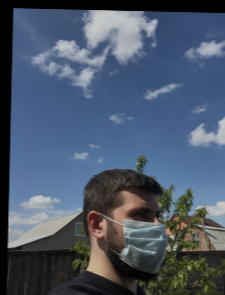with_mask: (117, 200, 167, 277)
